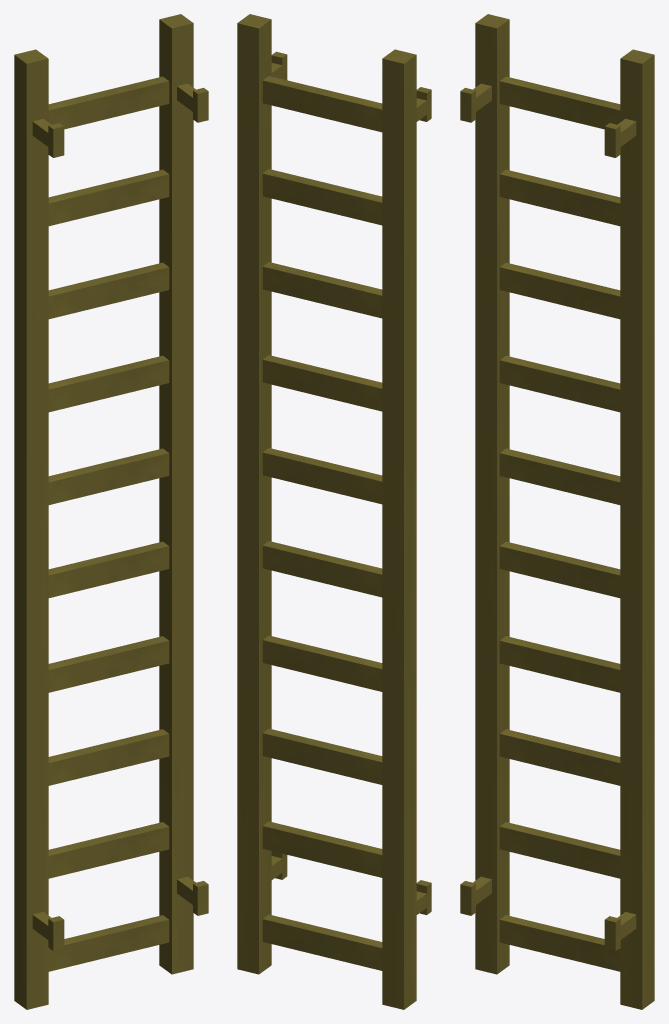
File: Ladder.fbx
3 renders of one model, left to right at view 1: azimuth 30°, elevation 25°; view 2: azimuth 150°, elevation 25°; view 3: azimuth 330°, elevation 25°, orthographic.
Visible parts, largest first — view 1: EscadaVertical; view 2: EscadaVertical; view 3: EscadaVertical.
Part boxes in pixels (x1,y1,x2,y2): EscadaVertical: [14, 14, 208, 1009]; EscadaVertical: [237, 14, 431, 1009]; EscadaVertical: [460, 14, 654, 1009].
Bounding box in the file's own units: 37.44 × 203 × 12.96.
Materials: 1 (1 with a texture image).
